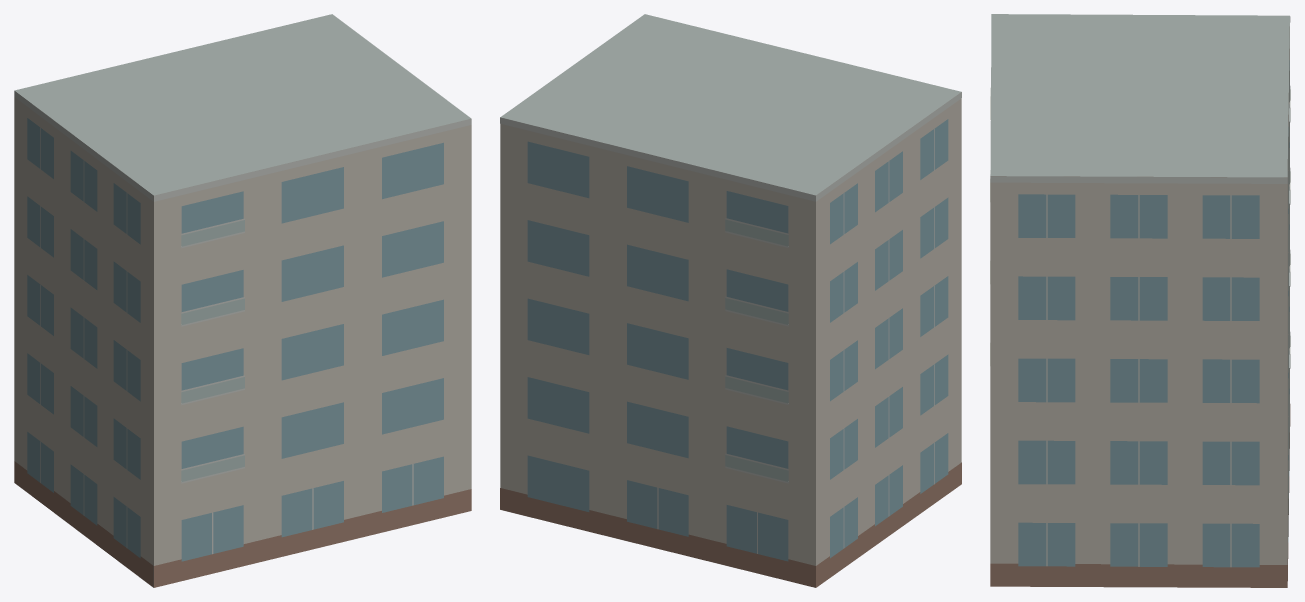
File: survey-upis-32958896.glb
3 renders of one model, left to right at view 1: azimuth 30°, elevation 25°; view 2: azimuth 150°, elevation 25°; view 3: azimuth 270°, elevation 25°, orthographic. The views are drawn at different scales.
Visible parts, largest first — view 1: survey-upis-32958896.tmp; view 2: survey-upis-32958896.tmp; view 3: survey-upis-32958896.tmp.
Part boxes in pixels (x1,y1,x2,y2): survey-upis-32958896.tmp: (14,14,471,587); survey-upis-32958896.tmp: (500,14,961,587); survey-upis-32958896.tmp: (990,14,1290,587).
Size of the model in its own units: 12.98 by 15.2 by 10.1.
